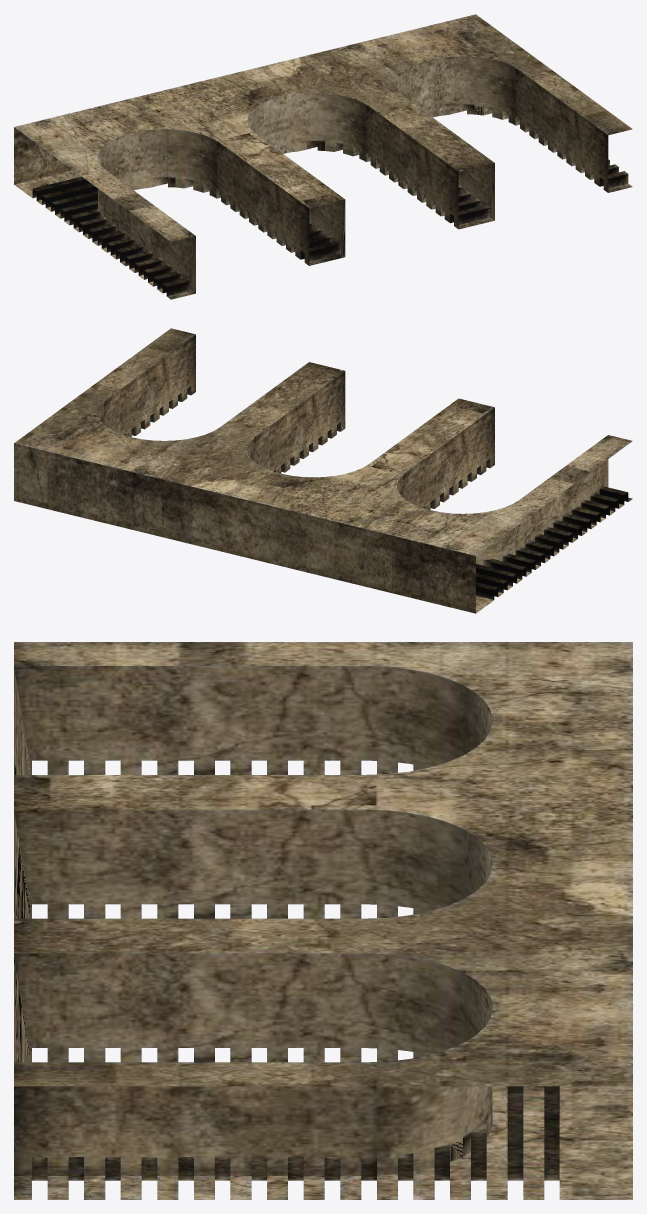
Rendered from arch_b.glb.
3 renders of one model, top to bottom at view 1: azimuth 30°, elevation 25°; view 2: azimuth 150°, elevation 25°; view 3: azimuth 270°, elevation 25°, orthographic. The views are drawn at different scales.
Parts seen in each view (by area): view 1: Object_2; view 2: Object_2; view 3: Object_2.
Part boxes in pixels (x1,y1,x2,y2): Object_2: (14,14,632,299); Object_2: (14,328,632,613); Object_2: (14,642,632,1199).
Bounding box in the file's own units: 2.9 × 0.3462 × 1.71.
Materials: 1 (1 with a texture image).
